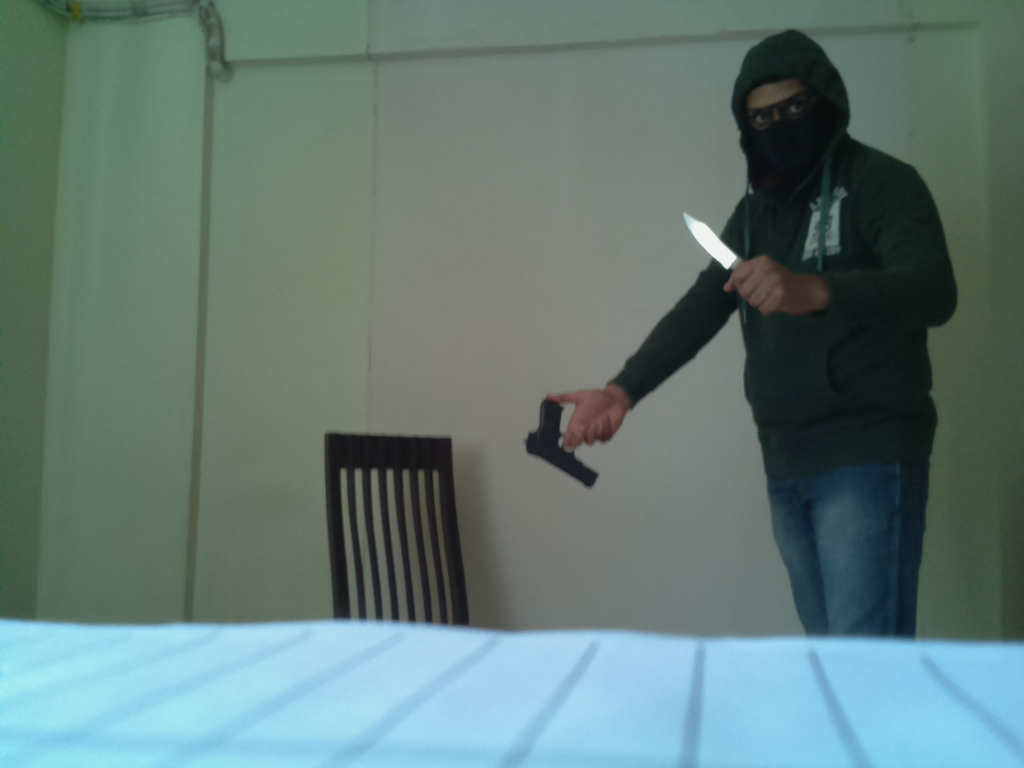gun: (517, 395, 607, 495)
knife: (679, 210, 758, 287)
